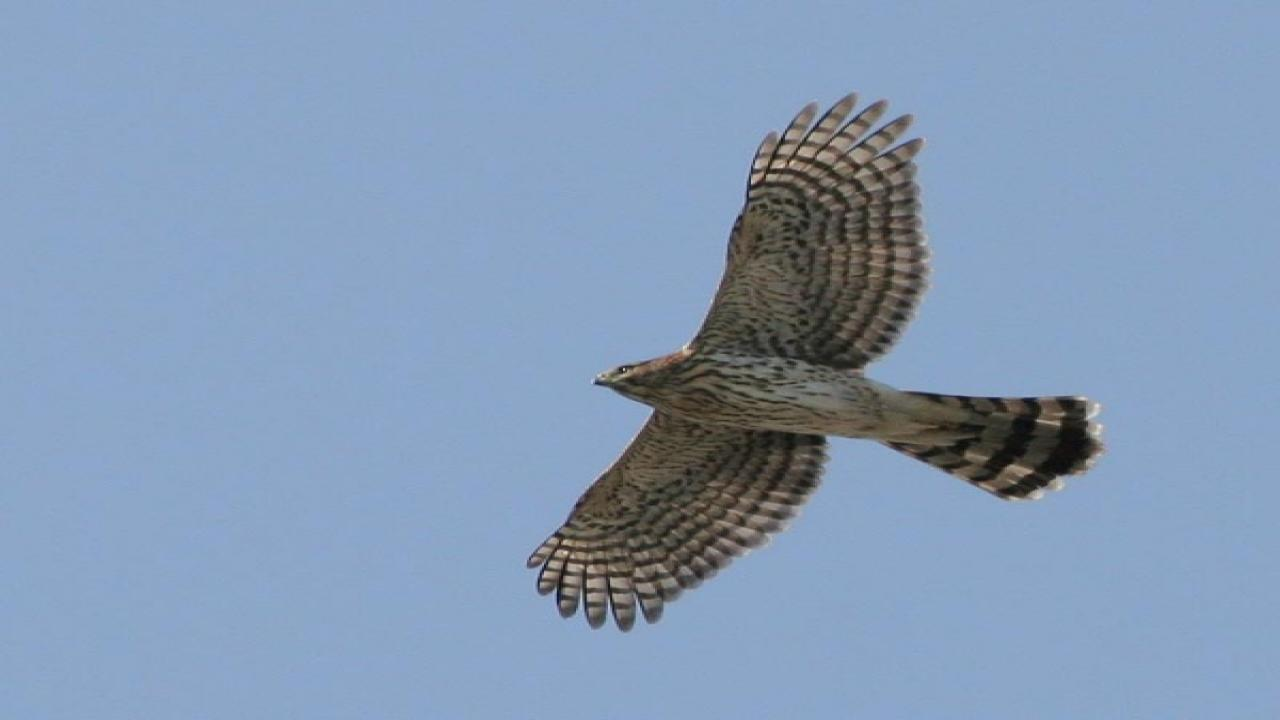Bird: (514, 90, 1122, 636)
